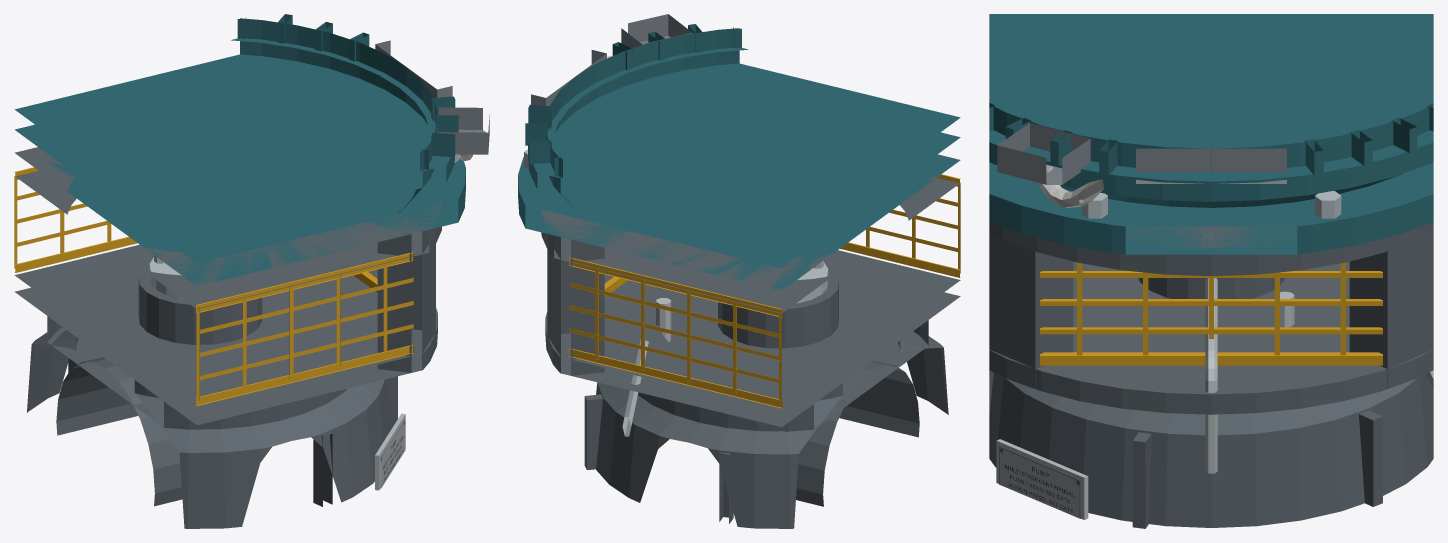
Rendered from cell_32.obj.
The picture shows the model from 3 angles, left to right: view 1: azimuth 30°, elevation 25°; view 2: azimuth 150°, elevation 25°; view 3: azimuth 270°, elevation 25°; orthographic projection. The views are drawn at different scales.
Bounding box in the file's own units: 1 × 1 × 1.
